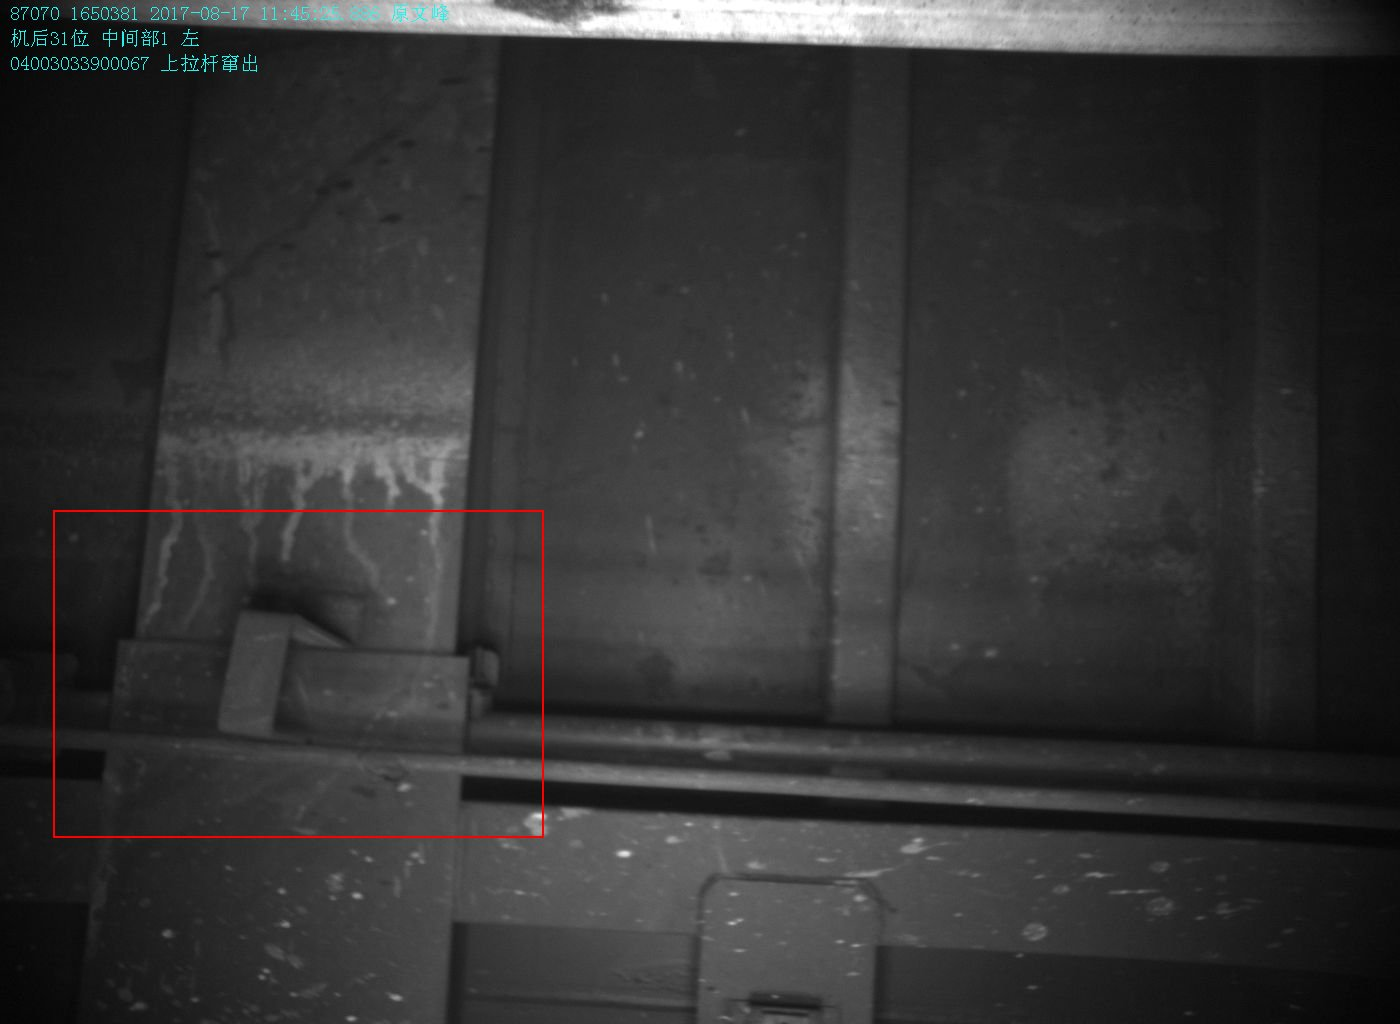Upper lever: (218, 595, 359, 771)
